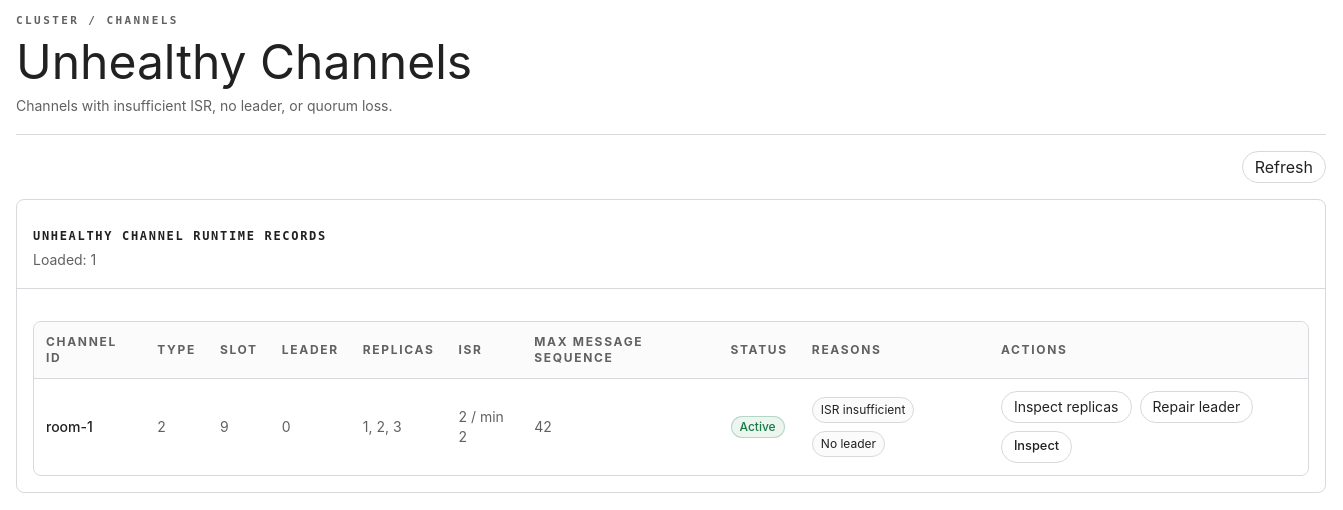
it: repairs no leader rows and refreshes the first page
The width and height of the screenshot is (1343, 510).
Click the button "Repair leader" at (1196,406), box [1140,390,1253,422]
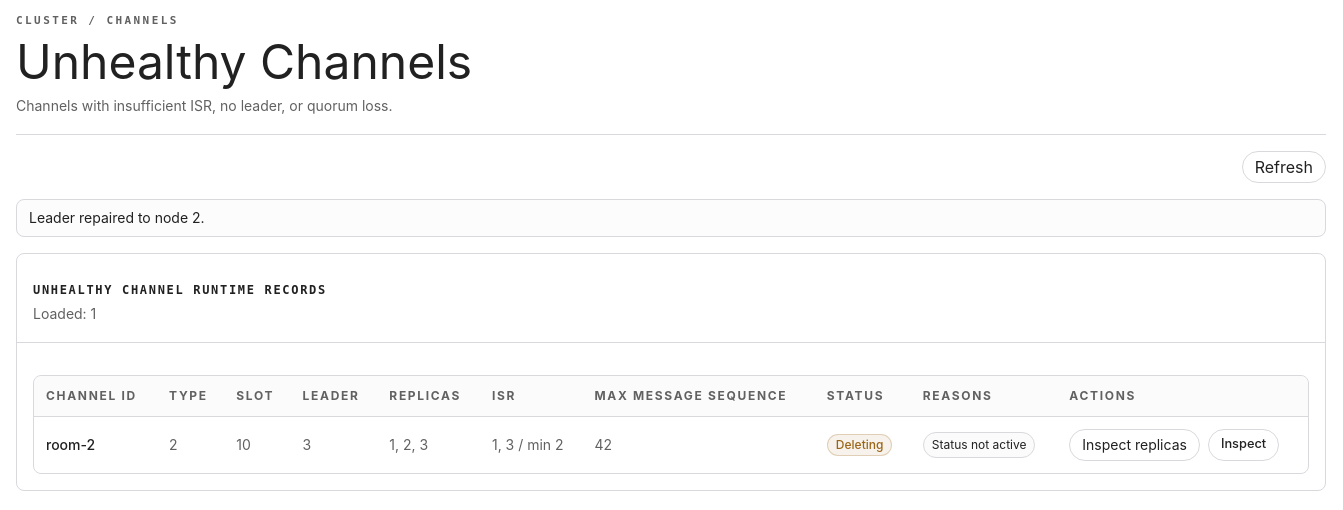
Check: the text "Leader repaired to node 2." is shown, box [16,198,1326,236]
Check: the text "room-2" is shown, box [34,416,157,472]
